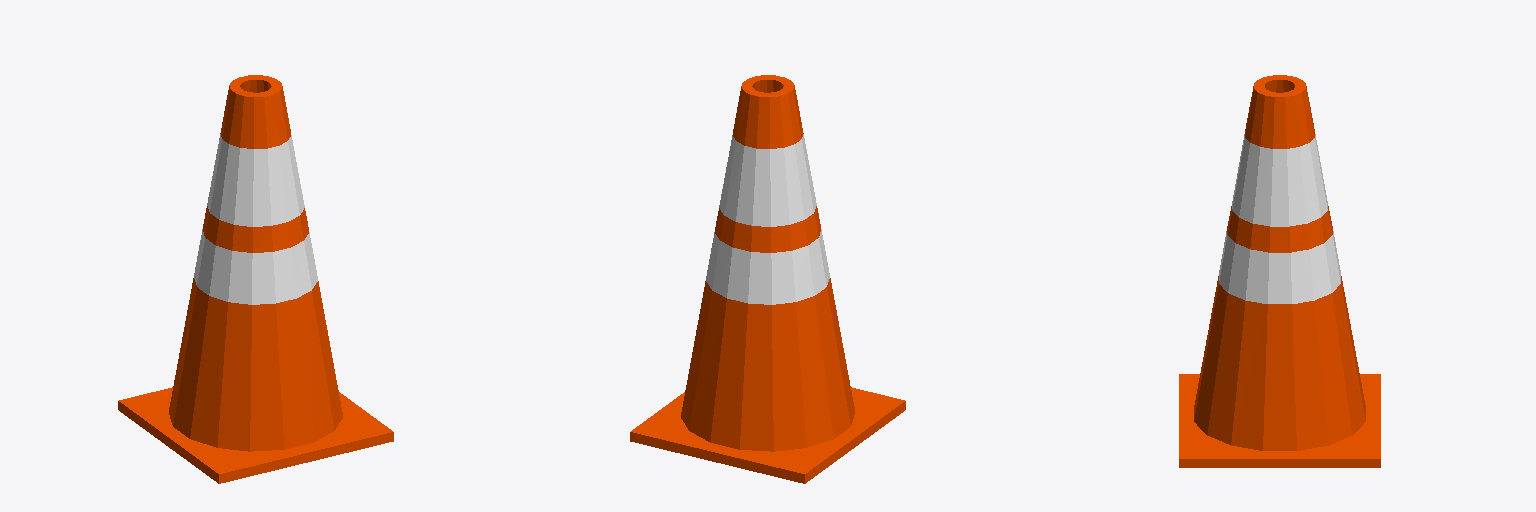
The model's file is trafficCone.obj.
3 views of the same model, side by side, from view 1: azimuth 30°, elevation 25°; view 2: azimuth 150°, elevation 25°; view 3: azimuth 270°, elevation 25° (orthographic).
Visible parts, largest first — view 1: CityEngineMaterial, CityEngineMaterial_1; view 2: CityEngineMaterial, CityEngineMaterial_1; view 3: CityEngineMaterial, CityEngineMaterial_1.
Boxes of the visible parts, box(x1,y1,x2,y2) form: CityEngineMaterial: box(118, 75, 393, 483); CityEngineMaterial_1: box(194, 134, 317, 304); CityEngineMaterial: box(630, 75, 905, 483); CityEngineMaterial_1: box(706, 134, 829, 304); CityEngineMaterial: box(1179, 75, 1380, 467); CityEngineMaterial_1: box(1219, 134, 1340, 303).
Bounding box in the file's own units: 0.38 × 0.706 × 0.38.